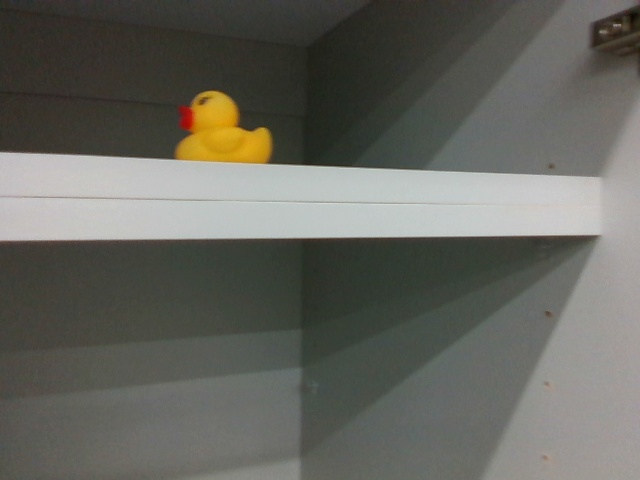duck: (171, 81, 278, 171)
